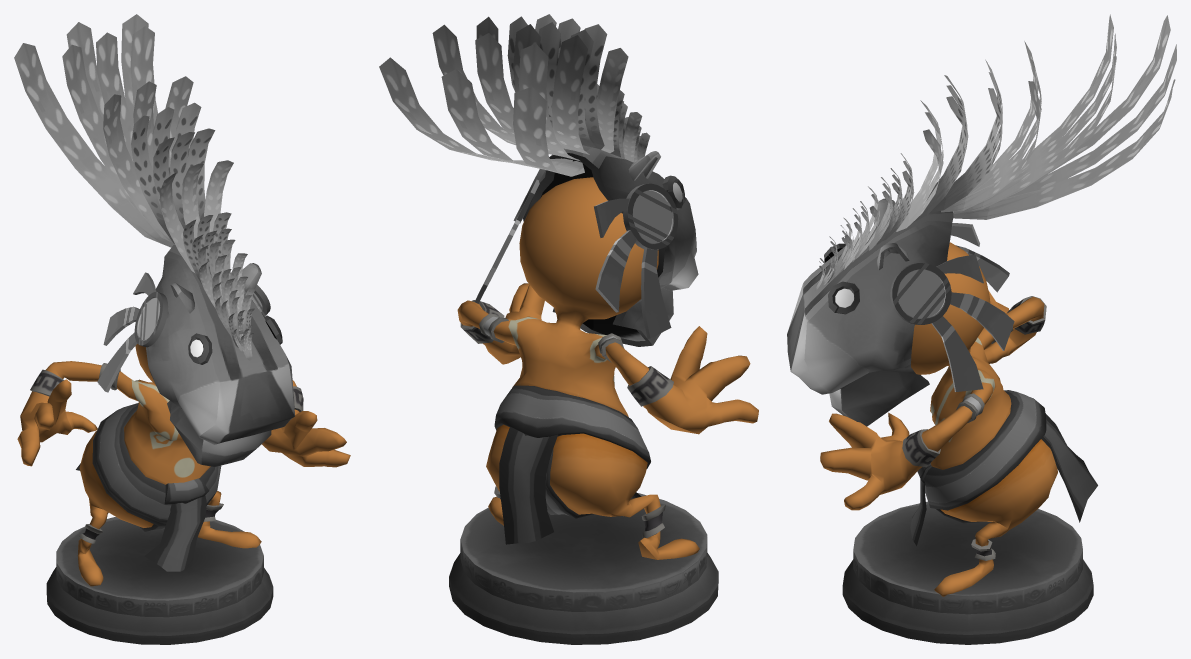
File: SM_Pose_Leopard.FBX
The picture shows the model from 3 angles, left to right: view 1: azimuth 30°, elevation 25°; view 2: azimuth 150°, elevation 25°; view 3: azimuth 270°, elevation 25°; orthographic projection. The views are drawn at different scales.
Parts seen in each view (by area): view 1: SM_Pose_Leopard; view 2: SM_Pose_Leopard; view 3: SM_Pose_Leopard.
Boxes of the visible parts, x1,y1,x2,y2 form: SM_Pose_Leopard: [14, 14, 350, 644]; SM_Pose_Leopard: [379, 14, 758, 644]; SM_Pose_Leopard: [787, 14, 1176, 644].
Bounding box in the file's own units: 190 × 208 × 334.
4 materials, 4 textured.
